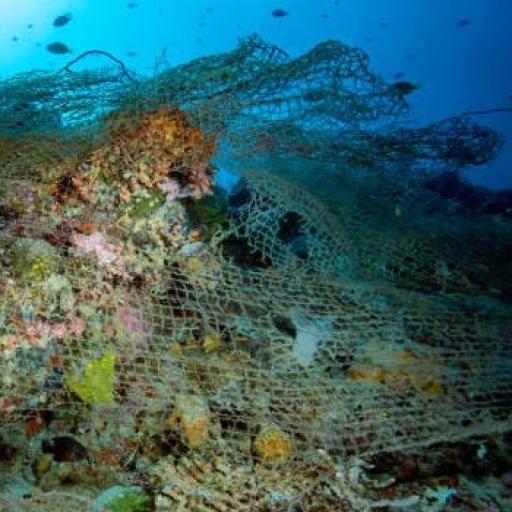net: (1, 44, 512, 512)
